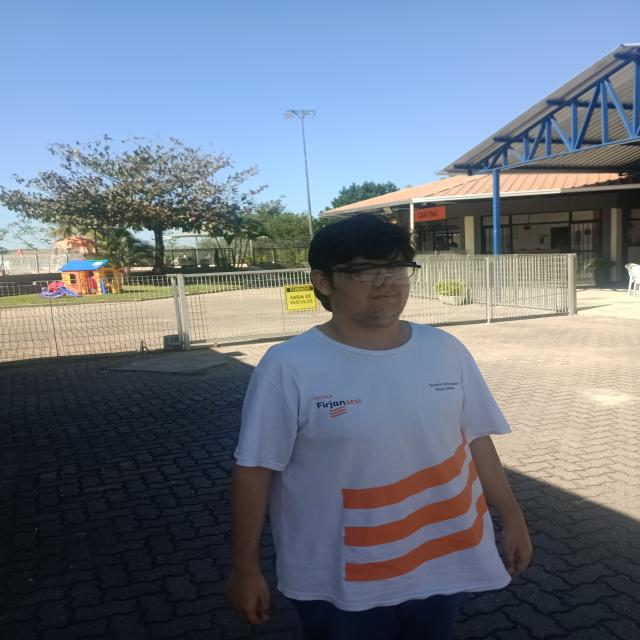oculos-epi: (330, 265, 421, 290)
